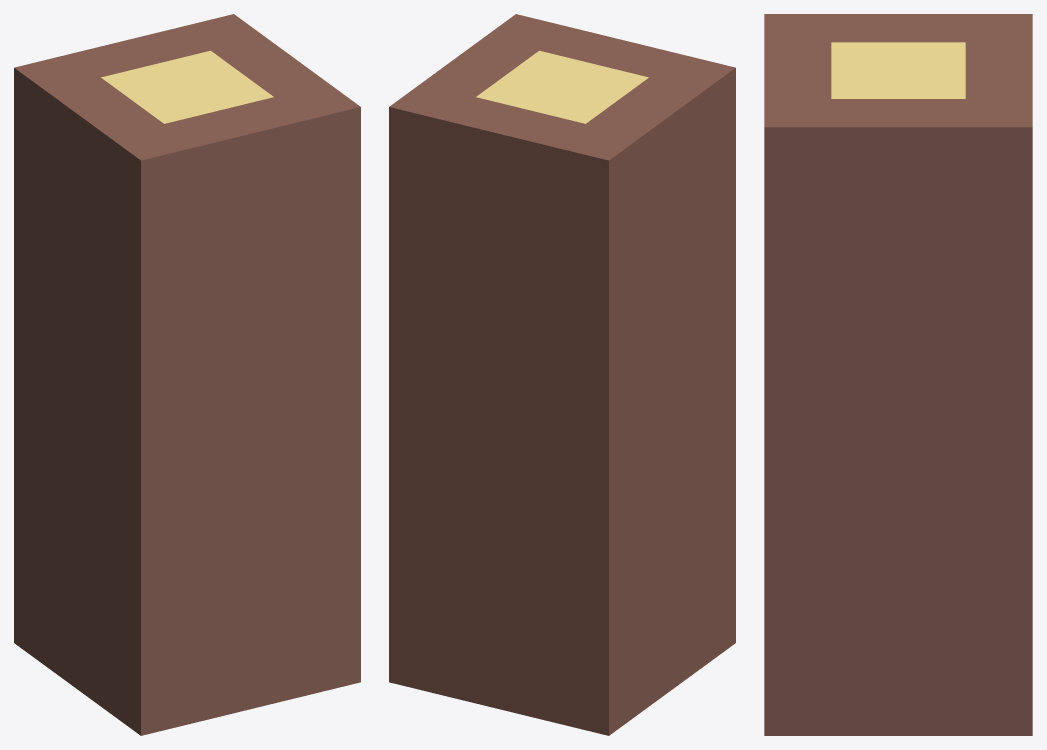
Rendered from log.fbx.
3 views of the same model, side by side, from view 1: azimuth 30°, elevation 25°; view 2: azimuth 150°, elevation 25°; view 3: azimuth 270°, elevation 25° (orthographic). The views are drawn at different scales.
Visible parts, largest first — view 1: cube_1, cube_9, cube, cube_6, cube_4, cube_2, cube_8, cube_5, cube_3; view 2: cube_1, cube_9, cube, cube_7, cube_3, cube_2, cube_8, cube_5, cube_4; view 3: cube_1, cube_8, cube_2, cube, cube_5, cube_3, cube_4.
Part boxes in pixels (box(x1,y1,x2,y2)): cube_1: box(14, 183, 360, 505); cube_9: box(14, 413, 195, 735); cube: box(14, 54, 195, 275); cube_6: box(196, 465, 305, 722); cube_4: box(165, 97, 305, 261); cube_2: box(179, 14, 360, 235); cube_8: box(306, 452, 360, 695); cube_5: box(101, 50, 273, 123); cube_3: box(69, 27, 210, 77); cube_1: box(389, 183, 735, 505); cube_9: box(554, 413, 735, 735); cube: box(554, 54, 735, 275); cube_7: box(444, 465, 553, 722); cube_3: box(444, 97, 584, 261); cube_2: box(389, 14, 570, 235); cube_8: box(389, 452, 443, 695); cube_5: box(476, 50, 648, 123); cube_4: box(539, 27, 680, 77); cube_1: box(764, 249, 1032, 492); cube_8: box(764, 492, 1032, 735); cube_2: box(764, 99, 1032, 249); cube: box(764, 14, 1032, 42); cube_5: box(831, 42, 965, 98); cube_3: box(965, 42, 1032, 98); cube_4: box(764, 42, 831, 98).
Size of the model in its own units: 50 by 125 by 50.
Materials: 2 (2 with a texture image).
